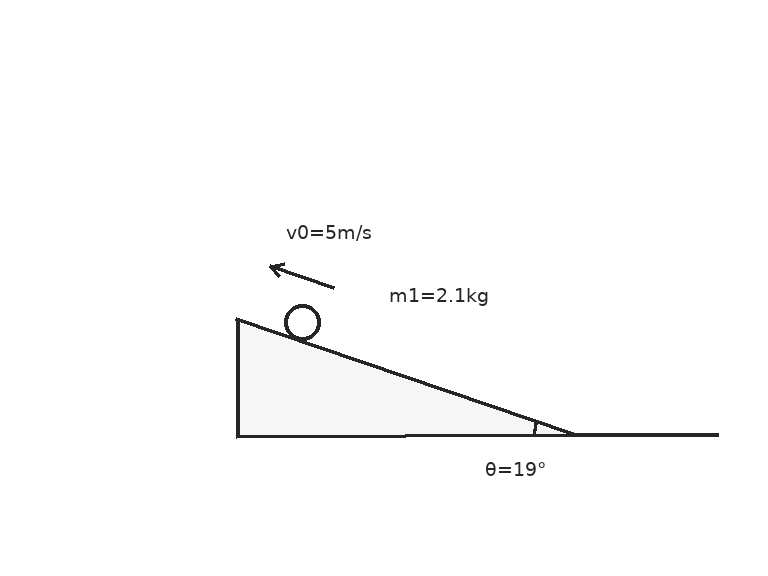ball: (282, 302, 322, 342)
ramp: (234, 317, 576, 437)
